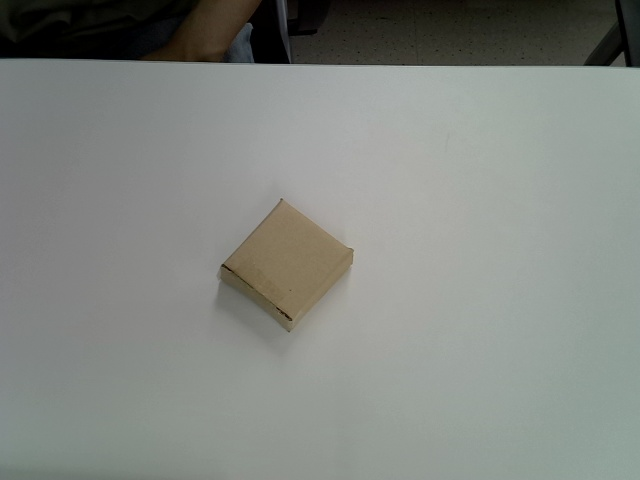normal: (219, 198, 355, 333)
